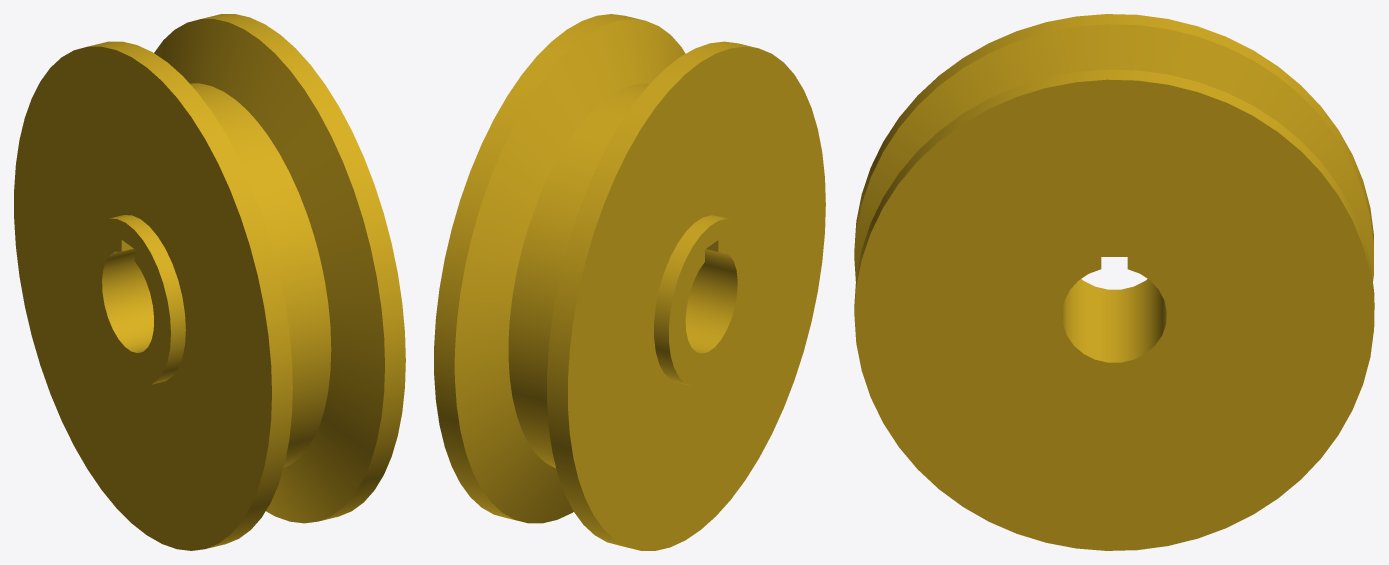
The model's file is Pulley.gltf.
3 views of the same model, side by side, from view 1: azimuth 30°, elevation 25°; view 2: azimuth 150°, elevation 25°; view 3: azimuth 270°, elevation 25° (orthographic).
Visible parts, largest first — view 1: Pulley; view 2: Pulley; view 3: Pulley.
Part boxes in pixels (box(x1,y1,x2,y2)): Pulley: box(14, 14, 405, 550); Pulley: box(434, 14, 825, 550); Pulley: box(854, 14, 1374, 550).
Bounding box in the file's own units: 0.0318 × 0.0955 × 0.0955.
